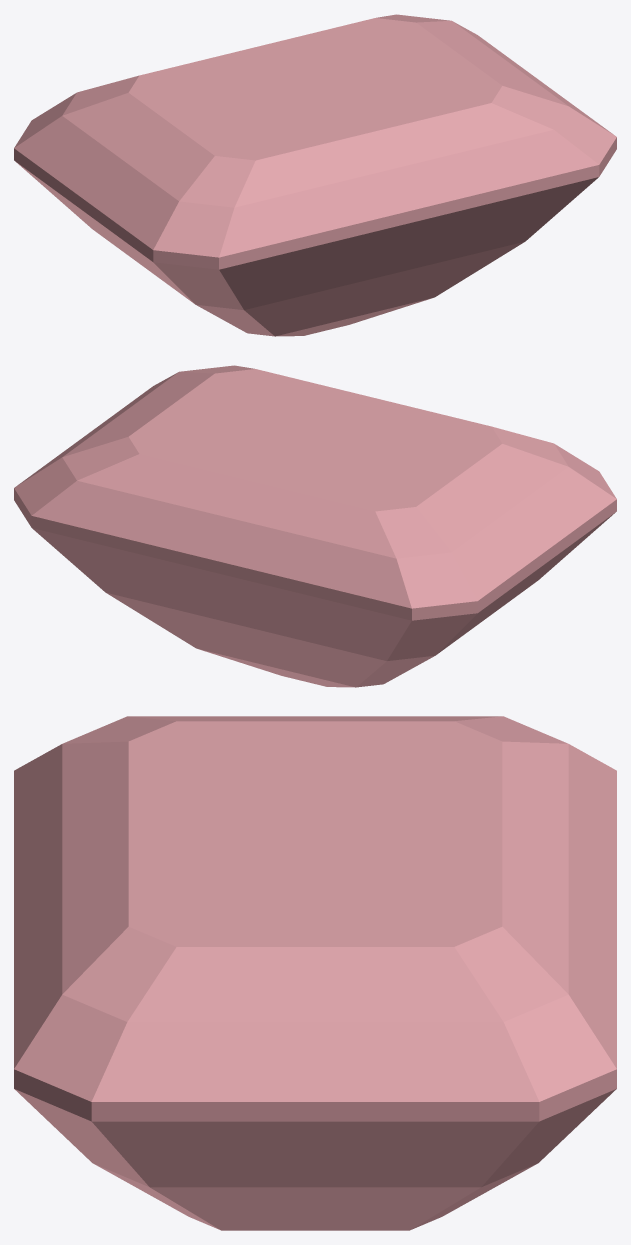
File: redberyl.glb
3 views of the same model, one above another, from view 1: azimuth 30°, elevation 25°; view 2: azimuth 150°, elevation 25°; view 3: azimuth 270°, elevation 25° (orthographic). The views are drawn at different scales.
Visible parts, largest first — view 1: redberyl; view 2: redberyl; view 3: redberyl.
Boxes of the visible parts, box(x1,y1,x2,y2) form: redberyl: box(14, 14, 616, 336); redberyl: box(14, 365, 616, 687); redberyl: box(14, 716, 616, 1230).
Bounding box in the file's own units: 0.25 × 0.12 × 0.175.
